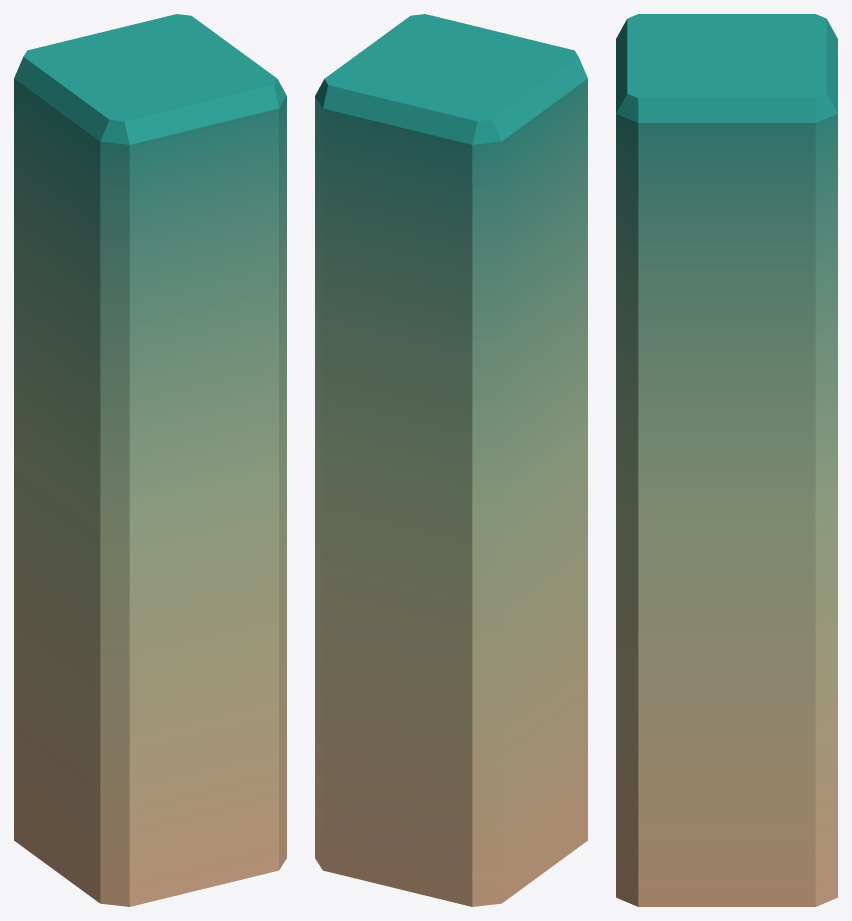
Rendered from blocks.fbx.
3 renders of one model, left to right at view 1: azimuth 30°, elevation 25°; view 2: azimuth 150°, elevation 25°; view 3: azimuth 270°, elevation 25°, orthographic. The views are drawn at different scales.
Parts seen in each view (by area): view 1: Model; view 2: Model; view 3: Model.
Boxes of the visible parts, x1,y1,x2,y2 form: Model: (14,14,286,906); Model: (315,14,587,906); Model: (616,14,837,906).
Size of the model in its own units: 1 by 4 by 1.
